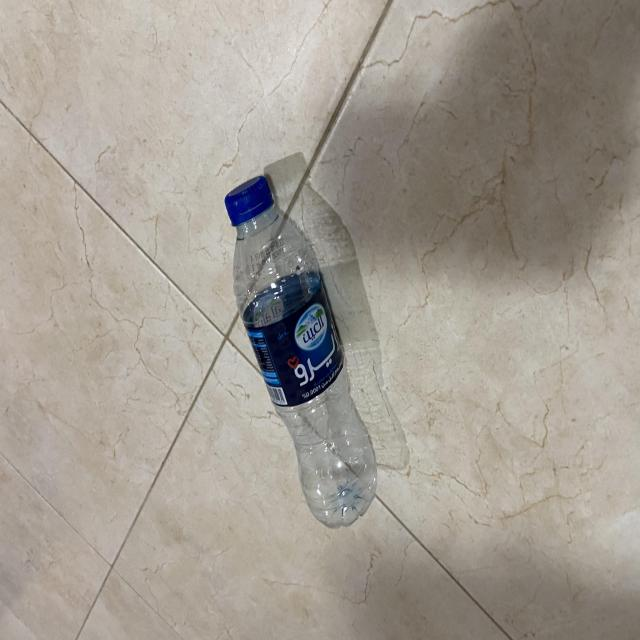bottle: (214, 185, 384, 532)
